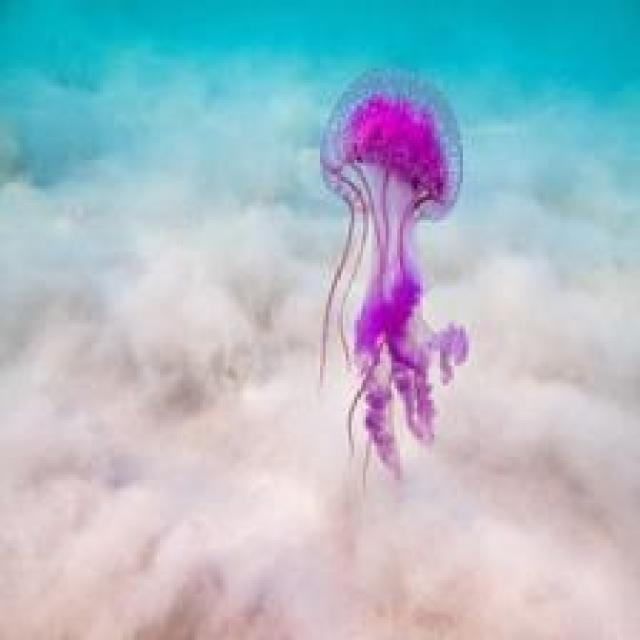Box-jellyfish: (314, 63, 469, 483)
